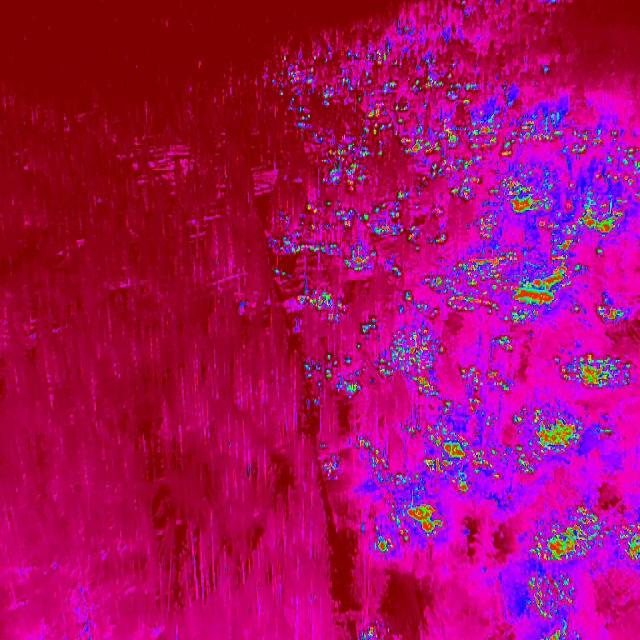fire: (280, 43, 494, 193), (394, 396, 584, 495), (274, 192, 451, 284), (430, 247, 592, 332), (494, 159, 640, 250), (362, 290, 459, 399), (494, 113, 600, 162), (530, 506, 608, 562), (368, 503, 446, 555), (302, 351, 373, 405), (523, 574, 578, 640), (555, 351, 634, 389), (453, 356, 519, 396), (295, 288, 352, 330), (357, 438, 392, 478), (596, 297, 638, 328), (609, 128, 640, 168), (467, 213, 498, 245), (488, 333, 521, 361), (618, 523, 640, 565), (318, 453, 343, 482), (354, 624, 379, 640), (597, 426, 614, 436)
